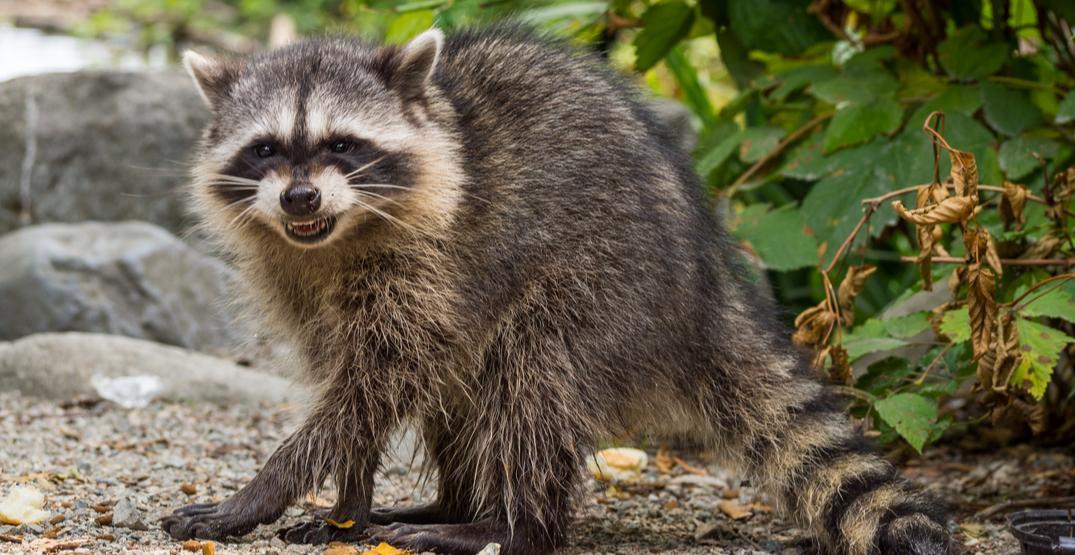raccoon: (161, 18, 954, 555)
